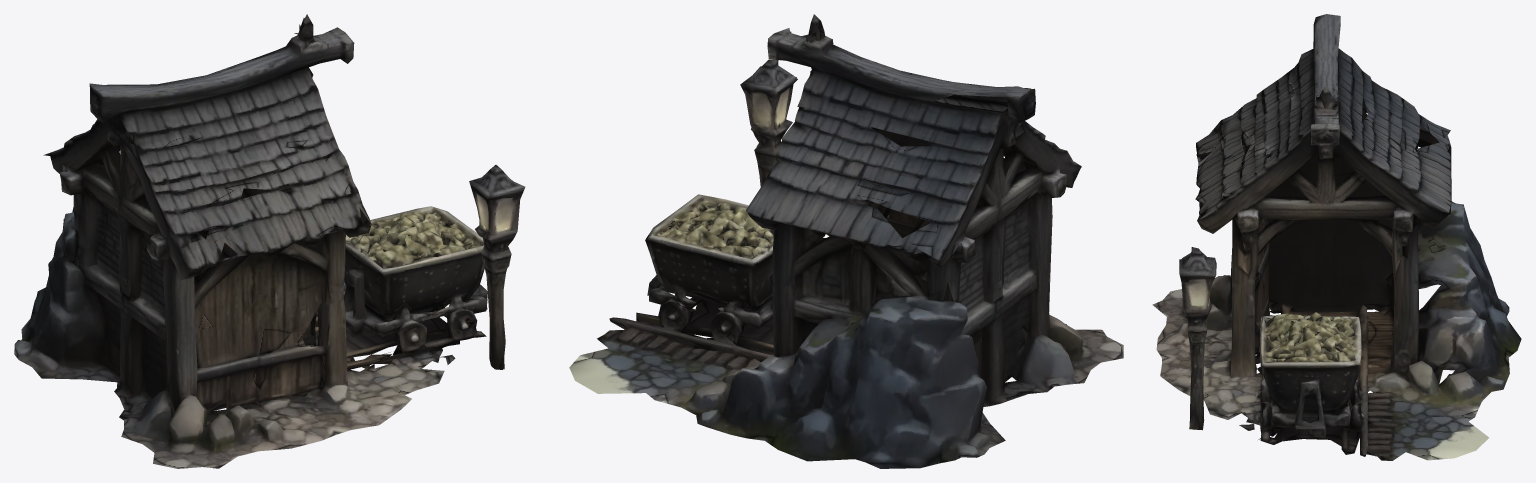
The model's file is gold.glb.
3 views of the same model, side by side, from view 1: azimuth 30°, elevation 25°; view 2: azimuth 150°, elevation 25°; view 3: azimuth 270°, elevation 25° (orthographic). The views are drawn at different scales.
Parts seen in each view (by area): view 1: geometry_0; view 2: geometry_0; view 3: geometry_0.
Boxes of the visible parts, <box> form: geometry_0: <box>14,14,525,468</box>; geometry_0: <box>569,14,1123,468</box>; geometry_0: <box>1152,14,1521,460</box>.
Bounding box in the file's own units: 0.9646 × 0.7408 × 0.8213.
1 material, 1 textured.
